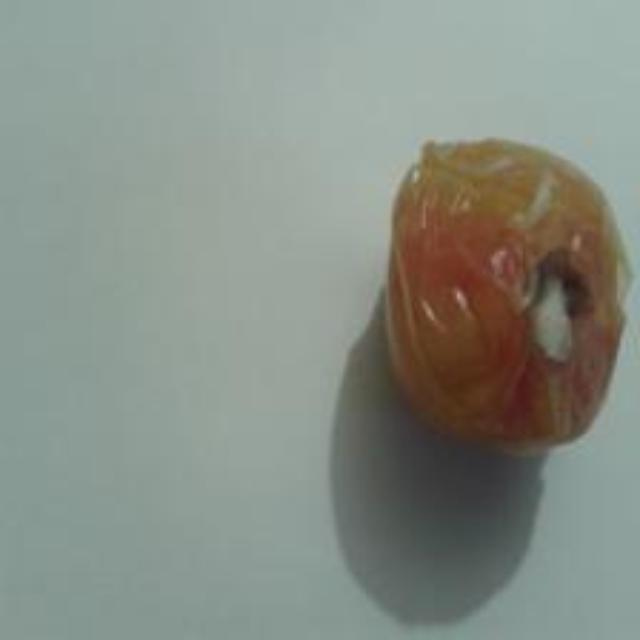defect: (379, 98, 634, 472)
